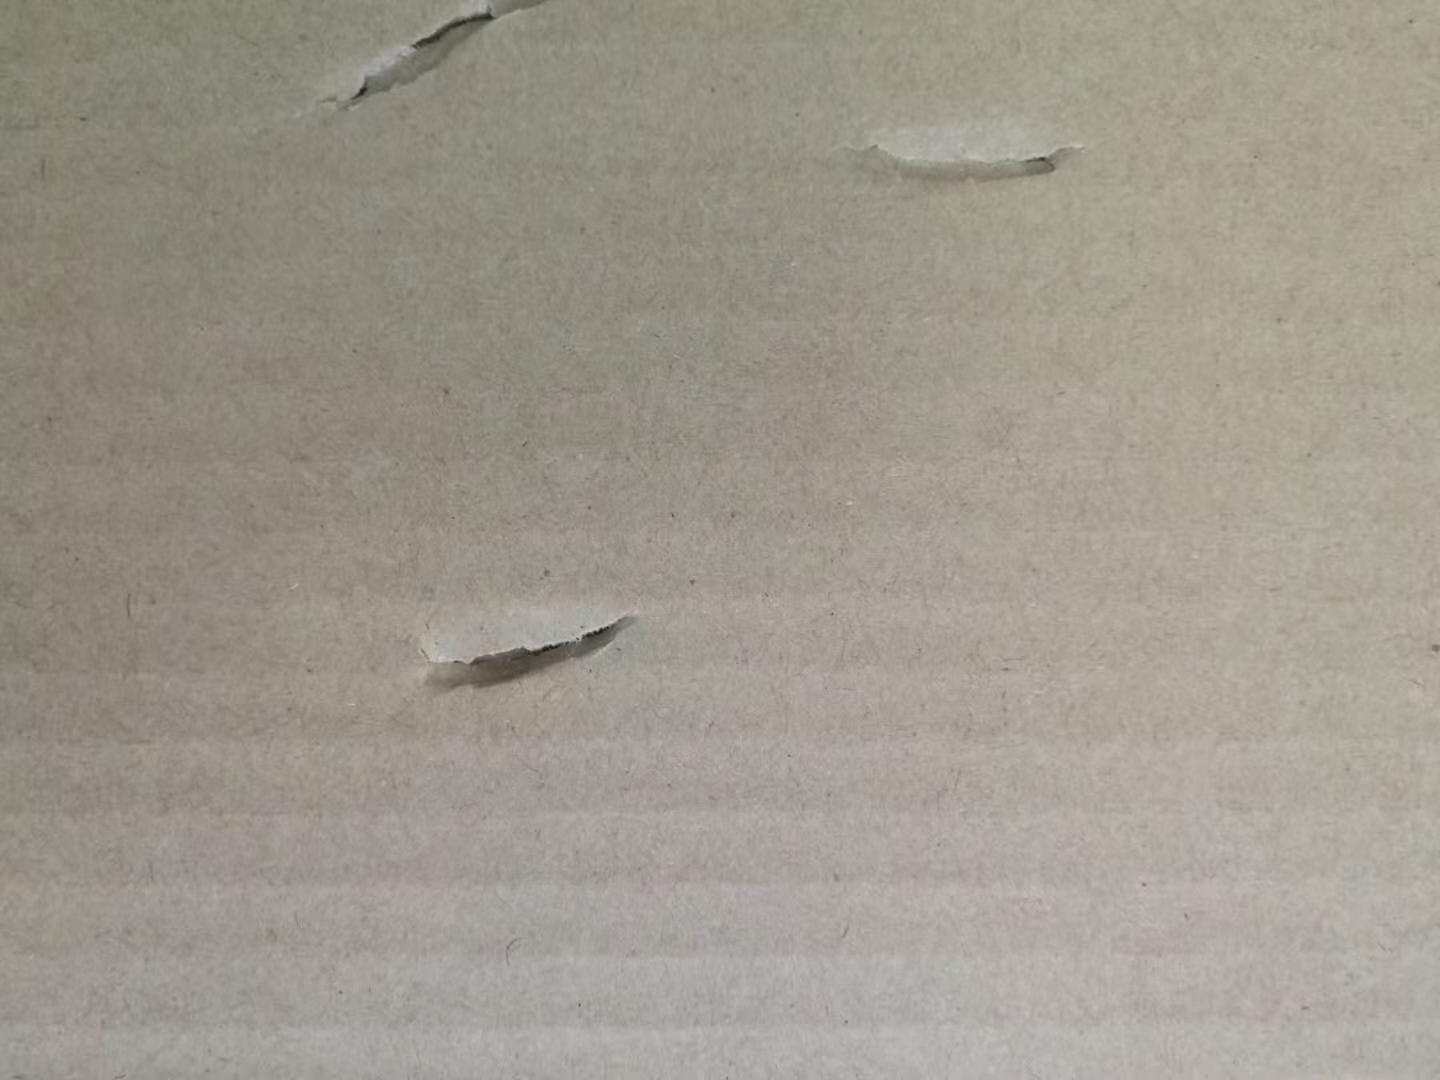defect: (381, 575, 677, 709), (266, 2, 579, 126), (805, 108, 1120, 223)
